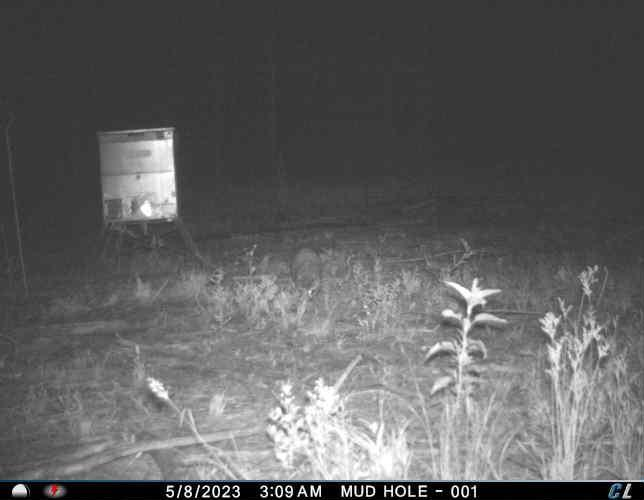Raccoon: (289, 244, 324, 301)
